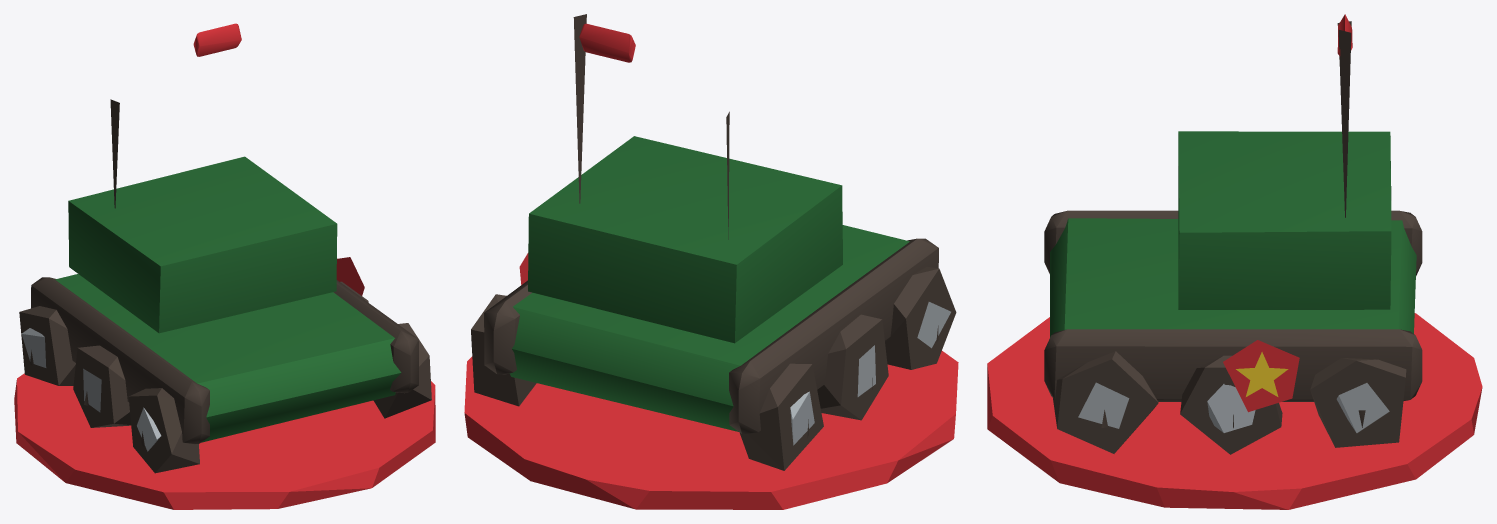
File: vietnam_commander_lod1.glb
The picture shows the model from 3 angles, left to right: view 1: azimuth 30°, elevation 25°; view 2: azimuth 150°, elevation 25°; view 3: azimuth 270°, elevation 25°; orthographic projection. The views are drawn at different scales.
Visible parts, largest first — view 1: body_hull, base_pedestal; view 2: body_hull, base_pedestal; view 3: body_hull, base_pedestal.
Part boxes in pixels (bbox=[...]): body_hull: bbox=[19, 23, 431, 473]; base_pedestal: bbox=[14, 373, 435, 509]; body_hull: bbox=[471, 14, 956, 470]; base_pedestal: bbox=[464, 351, 958, 509]; body_hull: bbox=[1044, 14, 1422, 454]; base_pedestal: bbox=[987, 313, 1482, 509].
Size of the model in its own units: 0.7751 by 0.7101 by 0.7751.
